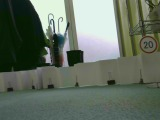speed_20: (137, 34, 159, 54)
